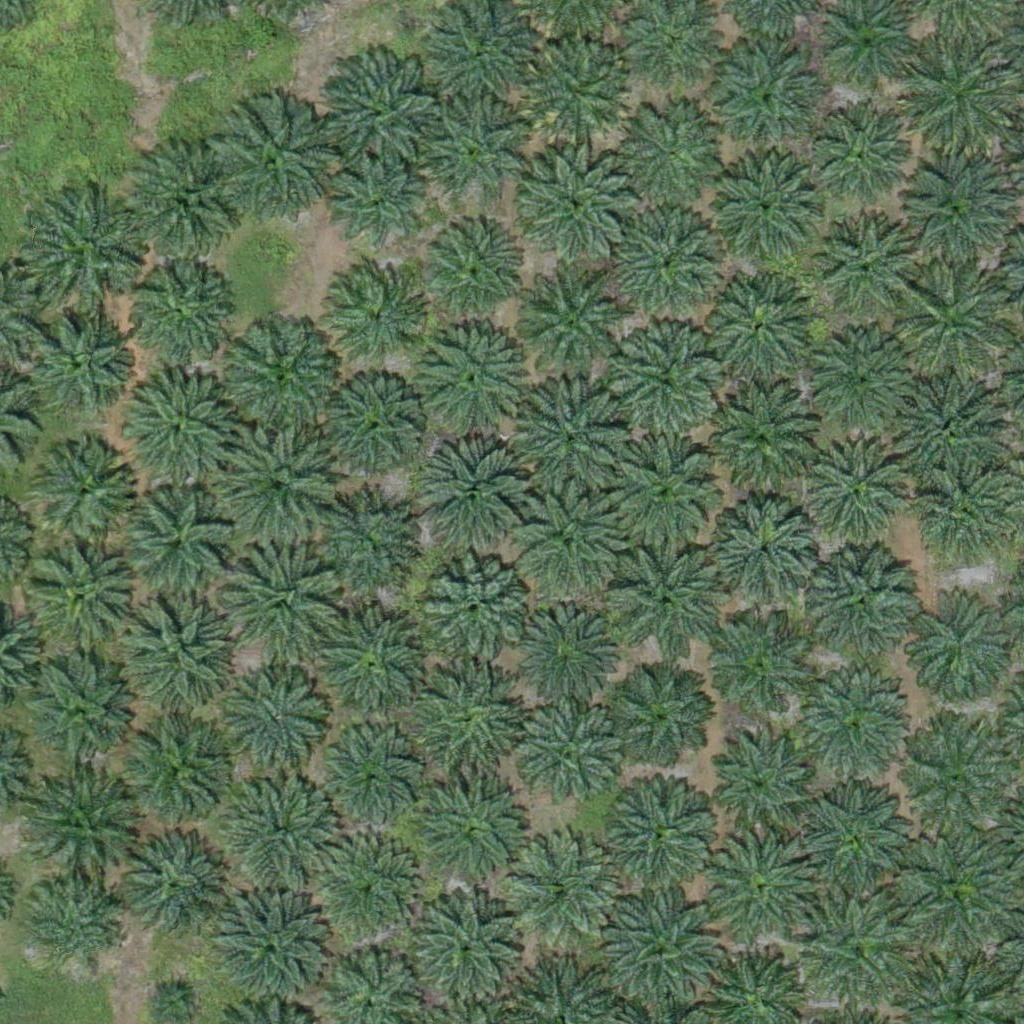Kelapa_Sawit: (315, 50, 440, 176), (209, 103, 334, 229), (26, 188, 151, 314), (216, 421, 341, 547), (218, 311, 343, 437), (404, 662, 529, 788), (414, 772, 539, 898), (113, 589, 238, 715), (220, 537, 345, 663), (399, 880, 524, 1006), (128, 142, 241, 256), (901, 589, 1014, 703), (228, 774, 341, 888), (702, 829, 815, 943), (899, 259, 1012, 372), (891, 372, 1004, 485), (800, 437, 913, 550), (704, 148, 817, 261), (522, 144, 635, 257), (519, 271, 632, 384), (513, 384, 626, 497), (412, 318, 525, 431), (512, 492, 625, 605), (606, 435, 719, 548), (118, 369, 231, 482), (117, 486, 230, 599), (898, 724, 1011, 837), (711, 729, 824, 842), (604, 775, 717, 888), (610, 550, 723, 663), (506, 595, 619, 708), (114, 830, 227, 943), (306, 830, 419, 943), (800, 889, 913, 1002), (904, 37, 1016, 151), (413, 440, 525, 554), (807, 544, 919, 658), (120, 718, 232, 832), (28, 774, 140, 888), (24, 658, 136, 772), (27, 541, 139, 655), (506, 830, 618, 944), (606, 890, 718, 1004), (897, 156, 1009, 269), (700, 269, 812, 382), (707, 387, 819, 500), (613, 96, 725, 209), (614, 206, 726, 319), (612, 322, 724, 435), (710, 500, 822, 613), (702, 617, 814, 730), (798, 678, 910, 791), (802, 780, 914, 893), (515, 704, 627, 817), (421, 553, 533, 666), (316, 607, 428, 720), (899, 834, 1011, 947), (216, 896, 328, 1009), (809, 104, 909, 205), (813, 211, 913, 312), (811, 328, 911, 429), (717, 46, 817, 147), (526, 39, 626, 140), (436, 1, 536, 102), (424, 99, 524, 200), (420, 220, 520, 321), (326, 152, 426, 253), (29, 311, 129, 412), (35, 439, 135, 540), (612, 667, 712, 768), (319, 735, 419, 836), (231, 675, 331, 776), (324, 267, 424, 367), (322, 376, 422, 476), (307, 499, 407, 599), (128, 260, 228, 360), (30, 881, 117, 969), (920, 476, 995, 551)
